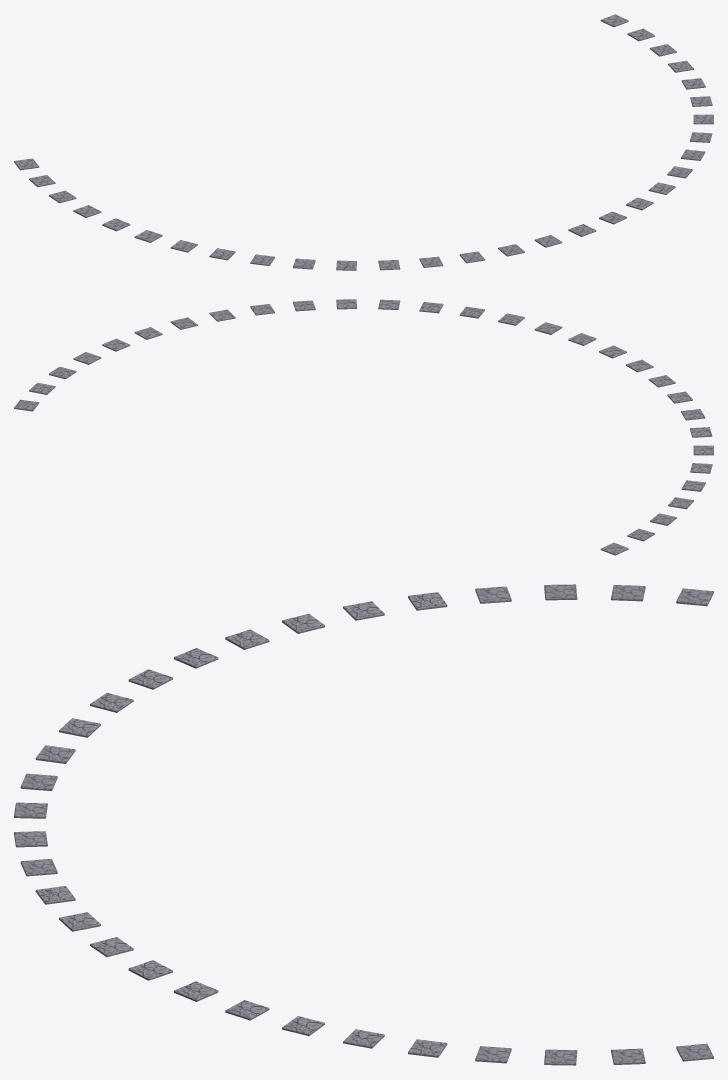
The model's file is marker_bays.fbx.
3 views of the same model, one above another, from view 1: azimuth 30°, elevation 25°; view 2: azimuth 150°, elevation 25°; view 3: azimuth 270°, elevation 25° (orthographic). The views are drawn at different scales.
Parts seen in each view (by area): view 1: marker_bays; view 2: marker_bays; view 3: marker_bays.
Part boxes in pixels (<box>): marker_bays: <box>14,14,713,270</box>; marker_bays: <box>14,299,713,555</box>; marker_bays: <box>14,584,713,1065</box>.
Bounding box in the file's own units: 177 × 0.4 × 109.
Materials: 1 (1 with a texture image).
